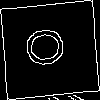O: (25, 25, 72, 69)
